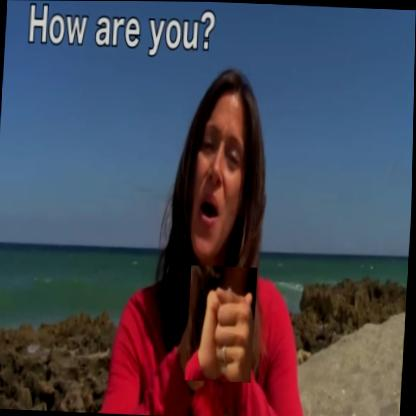HowAreYou: (186, 265, 258, 383)
